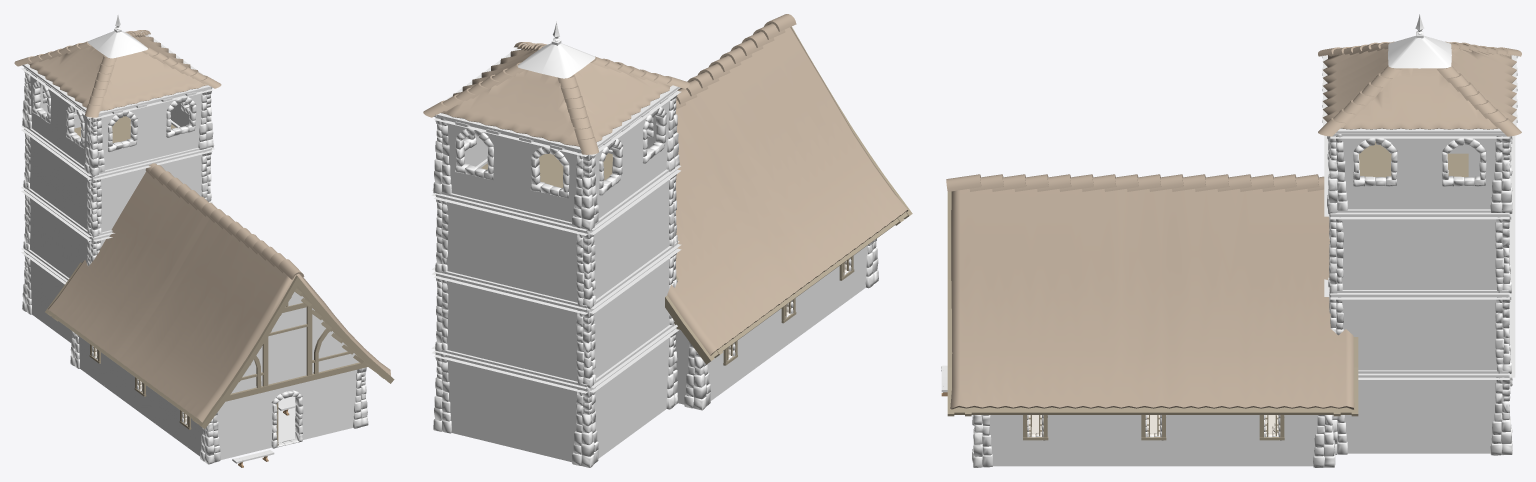
The model's file is eastbrook_chapel.glb.
3 renders of one model, left to right at view 1: azimuth 30°, elevation 25°; view 2: azimuth 150°, elevation 25°; view 3: azimuth 270°, elevation 25°, orthographic. The views are drawn at different scales.
Parts seen in each view (by area): view 1: civic-chapel:roof:village/MI_RoundTiles, civic-chapel:structure:village/MI_UnevenBrick, civic-chapel:tower-roof:village/MI_RoundTiles, civic-chapel:structure:village/MI_RockTrim, civic-chapel:roof:village/MI_WoodTrim, civic-chapel:roof:village/MI_UnevenBrick, civic-chapel:stone-frame:village/MI_RockTrim, civic-chapel:stone-cornice:village/MI_UnevenBrick, civic-chapel:tower-roof:village/MI_UnevenBrick, civic-chapel:tower-roof:village/MI_RockTrim, civic-chapel:floor:village/MI_UnevenBrick, civic-chapel:tower-platform:village/MI_WoodTrim; view 2: civic-chapel:structure:village/MI_UnevenBrick, civic-chapel:roof:village/MI_RoundTiles, civic-chapel:structure:village/MI_RockTrim, civic-chapel:tower-roof:village/MI_RoundTiles, civic-chapel:stone-cornice:village/MI_UnevenBrick, civic-chapel:stone-frame:village/MI_RockTrim, civic-chapel:roof:village/MI_WoodTrim, civic-chapel:tower-roof:village/MI_RockTrim, civic-chapel:tower-roof:village/MI_UnevenBrick, civic-chapel:tower-platform:village/MI_WoodTrim, civic-chapel:window:village/MI_WoodTrim_Wear; view 3: civic-chapel:roof:village/MI_RoundTiles, civic-chapel:structure:village/MI_UnevenBrick, civic-chapel:tower-roof:village/MI_RoundTiles, civic-chapel:structure:village/MI_RockTrim, civic-chapel:stone-cornice:village/MI_UnevenBrick, civic-chapel:roof:village/MI_WoodTrim, civic-chapel:stone-frame:village/MI_RockTrim, civic-chapel:tower-roof:village/MI_RockTrim, civic-chapel:tower-roof:village/MI_UnevenBrick, civic-chapel:tower-platform:village/MI_WoodTrim, civic-chapel:window:village/MI_WoodTrim_Wear, civic-chapel:floor:village/MI_UnevenBrick.
Part boxes in pixels (<box>): civic-chapel:roof:village/MI_RoundTiles: <box>48,163,391,422</box>; civic-chapel:structure:village/MI_UnevenBrick: <box>24,67,364,460</box>; civic-chapel:tower-roof:village/MI_RoundTiles: <box>14,30,221,117</box>; civic-chapel:structure:village/MI_RockTrim: <box>22,69,368,464</box>; civic-chapel:roof:village/MI_WoodTrim: <box>45,262,394,428</box>; civic-chapel:roof:village/MI_UnevenBrick: <box>231,292,359,393</box>; civic-chapel:stone-frame:village/MI_RockTrim: <box>32,81,196,425</box>; civic-chapel:stone-cornice:village/MI_UnevenBrick: <box>21,65,214,284</box>; civic-chapel:tower-roof:village/MI_UnevenBrick: <box>22,31,212,115</box>; civic-chapel:tower-roof:village/MI_RockTrim: <box>87,31,147,58</box>; civic-chapel:floor:village/MI_UnevenBrick: <box>278,396,295,443</box>; civic-chapel:tower-platform:village/MI_WoodTrim: <box>74,116,175,142</box>; civic-chapel:structure:village/MI_UnevenBrick: <box>435,90,867,462</box>; civic-chapel:roof:village/MI_RoundTiles: <box>667,14,908,355</box>; civic-chapel:structure:village/MI_RockTrim: <box>433,94,878,467</box>; civic-chapel:tower-roof:village/MI_RoundTiles: <box>423,42,689,154</box>; civic-chapel:stone-cornice:village/MI_UnevenBrick: <box>431,87,681,393</box>; civic-chapel:stone-frame:village/MI_RockTrim: <box>455,107,851,359</box>; civic-chapel:roof:village/MI_WoodTrim: <box>665,26,912,364</box>; civic-chapel:tower-roof:village/MI_RockTrim: <box>517,43,595,78</box>; civic-chapel:tower-roof:village/MI_UnevenBrick: <box>434,43,679,152</box>; civic-chapel:tower-platform:village/MI_WoodTrim: <box>481,153,612,187</box>; civic-chapel:window:village/MI_WoodTrim_Wear: <box>723,256,854,365</box>; civic-chapel:roof:village/MI_RoundTiles: <box>946,174,1354,409</box>; civic-chapel:structure:village/MI_UnevenBrick: <box>976,134,1511,466</box>; civic-chapel:tower-roof:village/MI_RoundTiles: <box>1318,41,1521,136</box>; civic-chapel:structure:village/MI_RockTrim: <box>972,134,1512,467</box>; civic-chapel:stone-cornice:village/MI_UnevenBrick: <box>1324,133,1515,379</box>; civic-chapel:roof:village/MI_WoodTrim: <box>947,191,1358,416</box>; civic-chapel:stone-frame:village/MI_RockTrim: <box>1027,136,1512,440</box>; civic-chapel:tower-roof:village/MI_RockTrim: <box>1388,36,1451,68</box>; civic-chapel:tower-roof:village/MI_UnevenBrick: <box>1322,55,1517,136</box>; civic-chapel:tower-platform:village/MI_WoodTrim: <box>1359,141,1468,177</box>; civic-chapel:window:village/MI_WoodTrim_Wear: <box>1023,415,1284,440</box>; civic-chapel:floor:village/MI_UnevenBrick: <box>1028,415,1278,433</box>.
Size of the model in its own units: 9.95 by 15.07 by 19.64.
